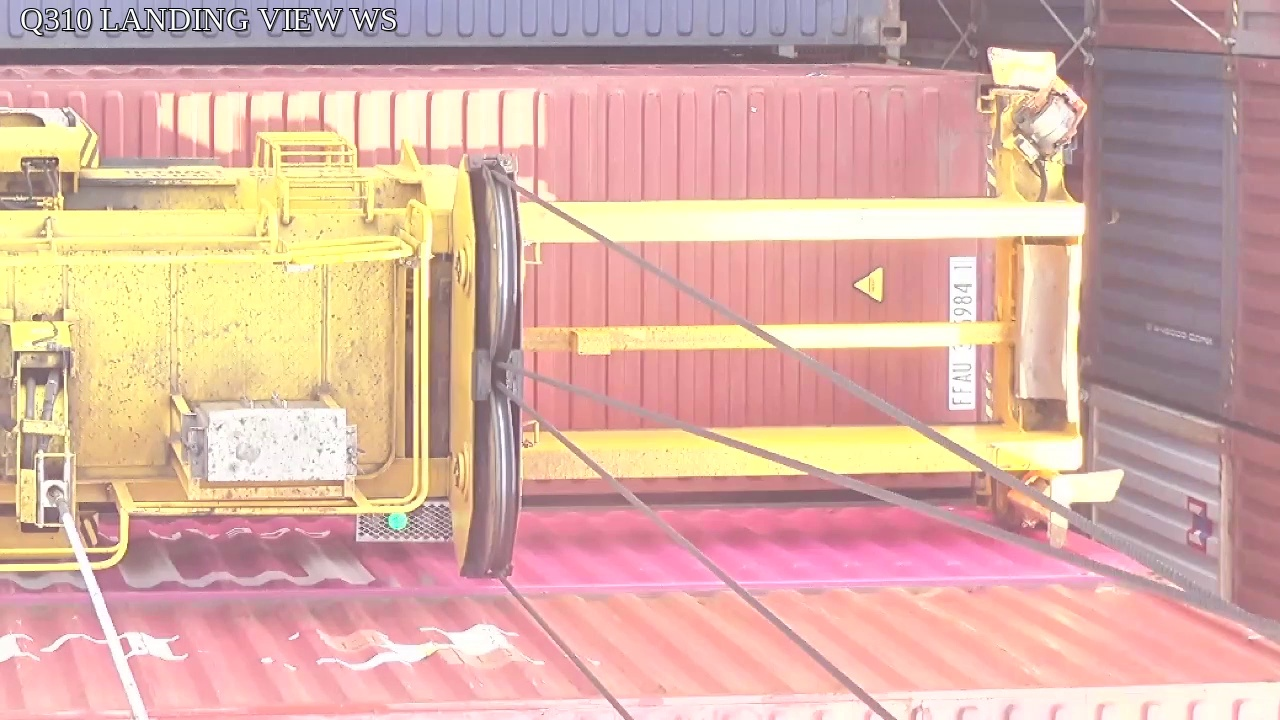right: (446, 150, 530, 579)
